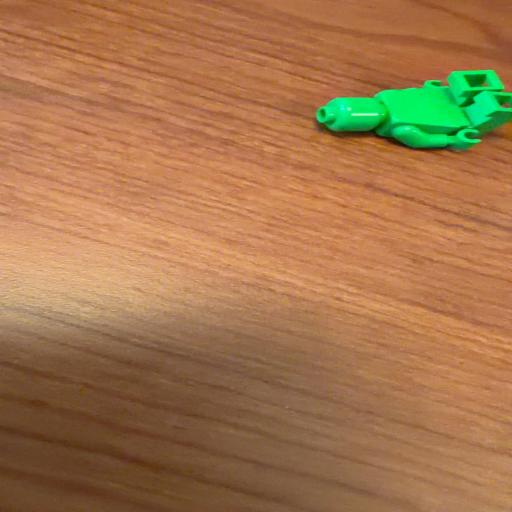UnoQ-minifig-detector: (315, 70, 512, 150)
